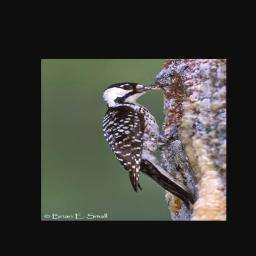Woodpecker: (100, 82, 194, 208)
